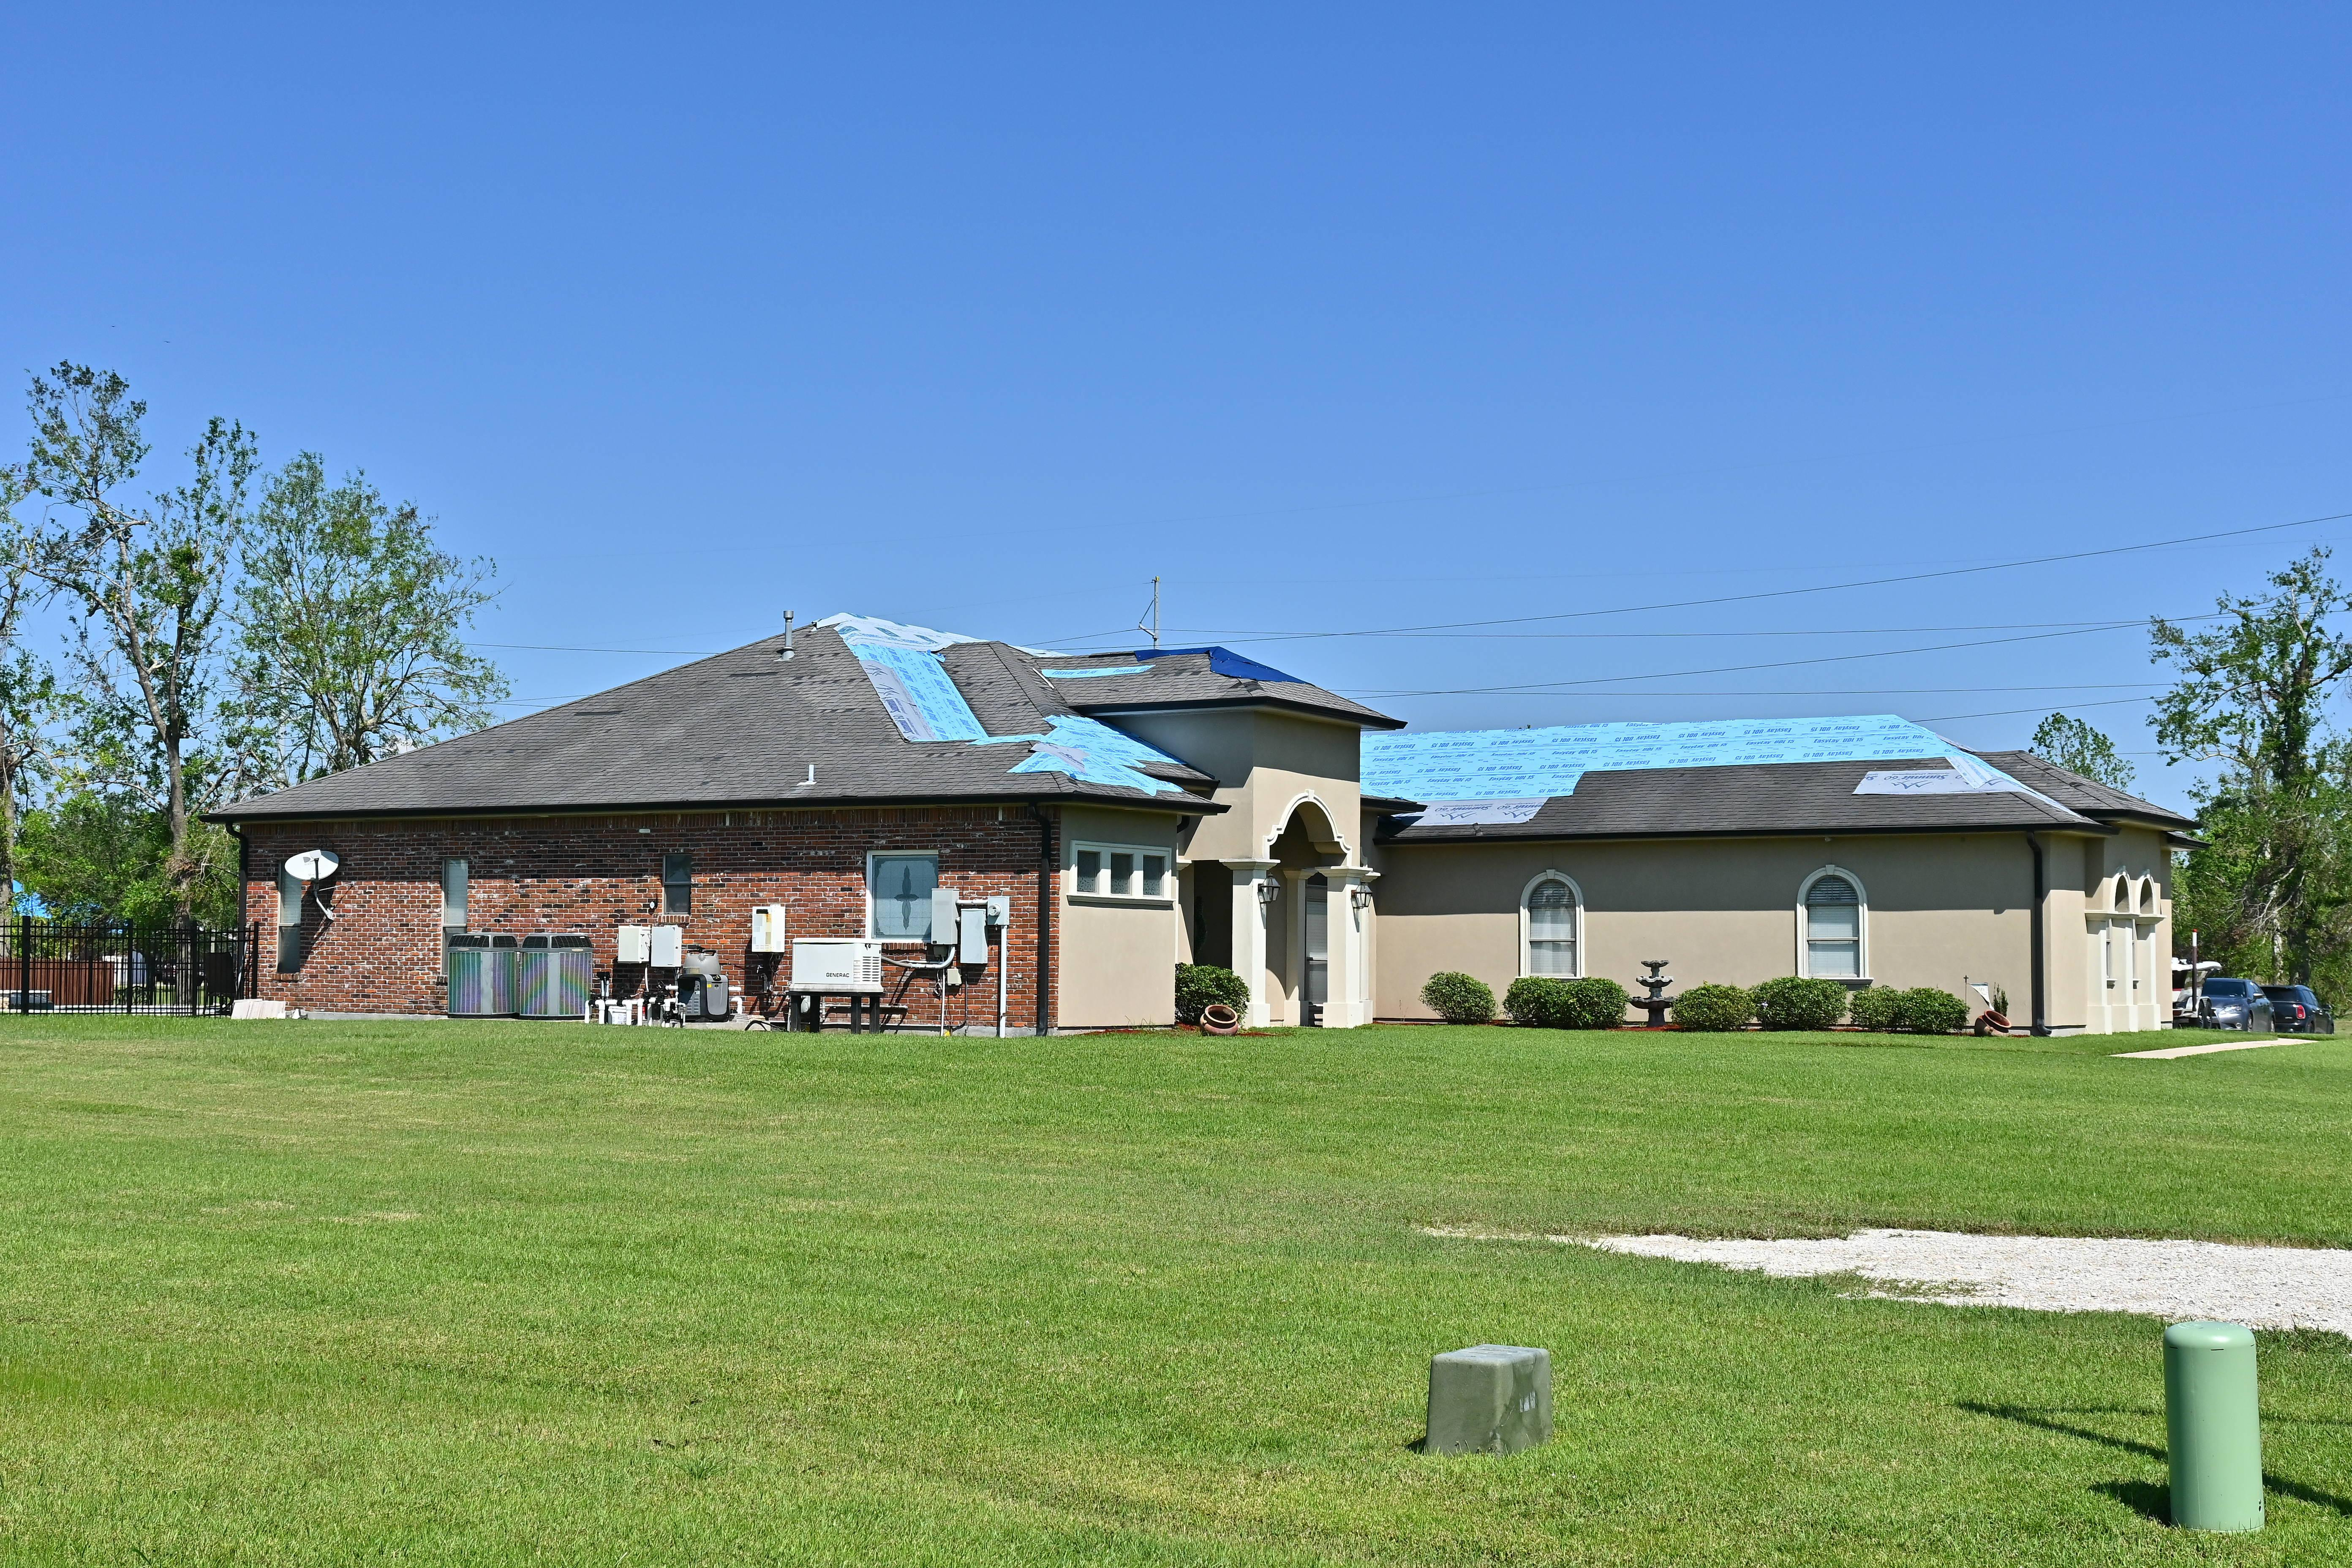minor: (222, 600, 2245, 1045)
